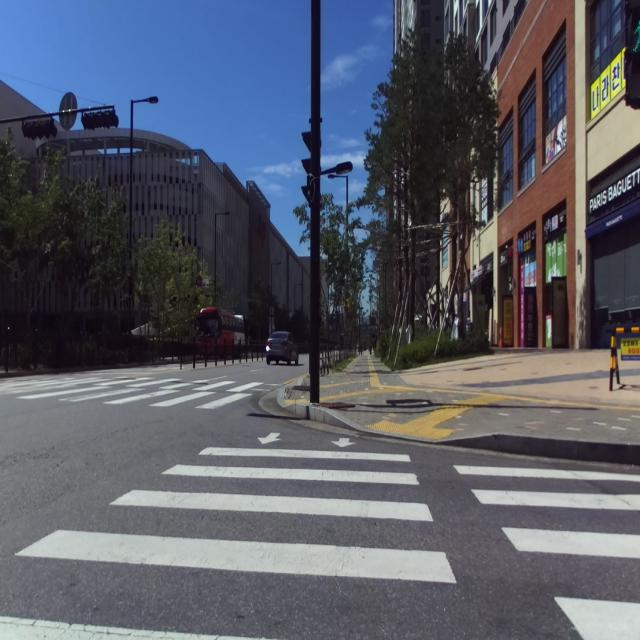횡단보도: (0, 433, 640, 640), (0, 373, 269, 412)
